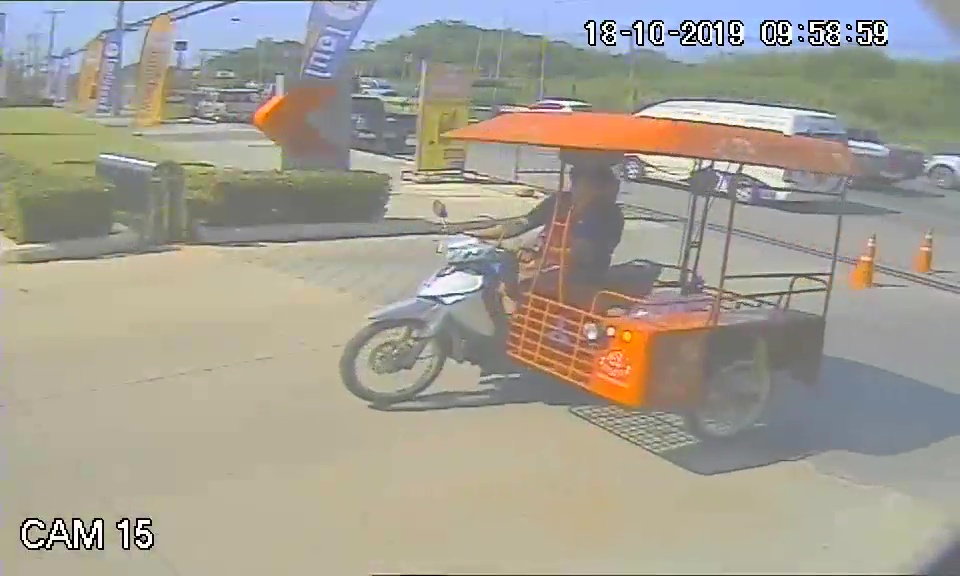motorcycle: (327, 219, 660, 413)
